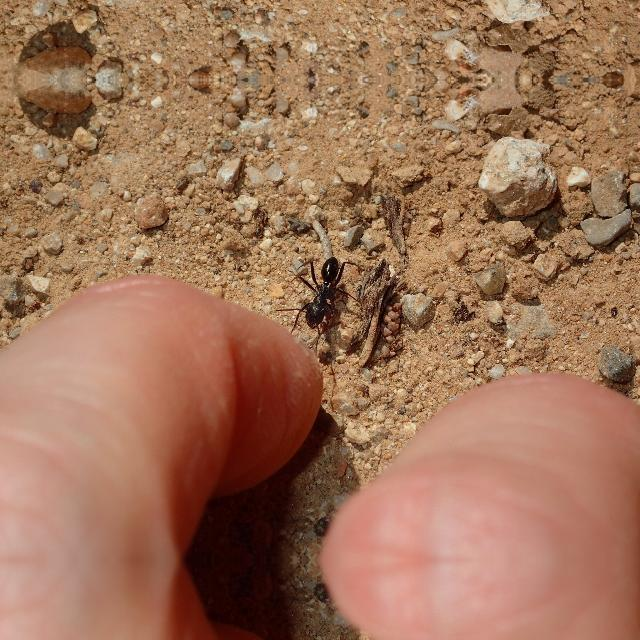Cataglyphis: (282, 248, 363, 336)
